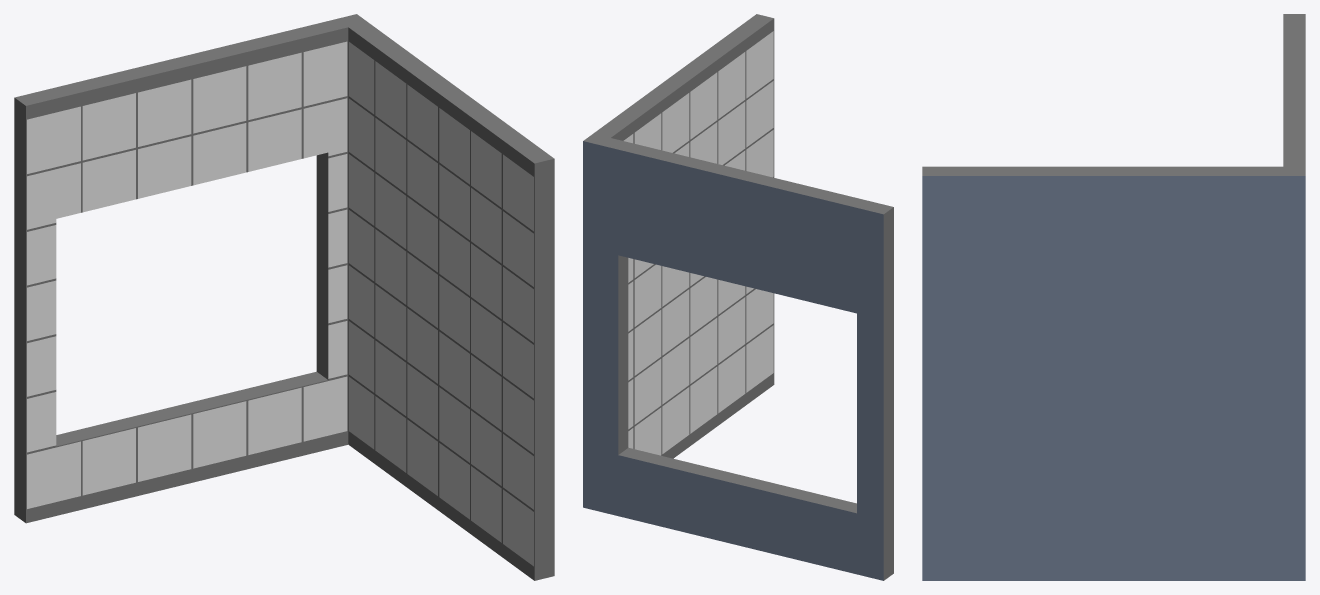
File: Wall3_C7_13.fbx
The picture shows the model from 3 angles, left to right: view 1: azimuth 30°, elevation 25°; view 2: azimuth 150°, elevation 25°; view 3: azimuth 270°, elevation 25°; orthographic projection. The views are drawn at different scales.
Parts seen in each view (by area): view 1: Wall3_C7_13; view 2: Wall3_C7_13; view 3: Wall3_C7_13.
Part boxes in pixels (left/top/right/bottom): Wall3_C7_13: left=14, top=14, right=554, bottom=580; Wall3_C7_13: left=583, top=14, right=893, bottom=580; Wall3_C7_13: left=922, top=14, right=1305, bottom=580.
Size of the model in its own units: 258 by 300 by 258.
